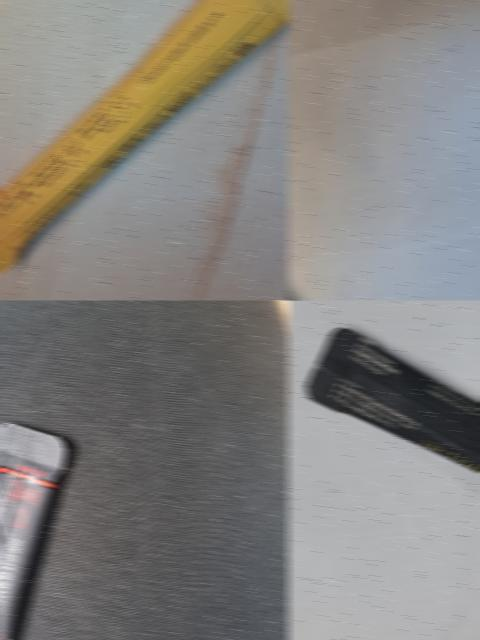KANU: (0, 397, 76, 640)
espresso_mini: (292, 301, 480, 574)
mix_coffee: (0, 0, 289, 299), (286, 114, 464, 300)
